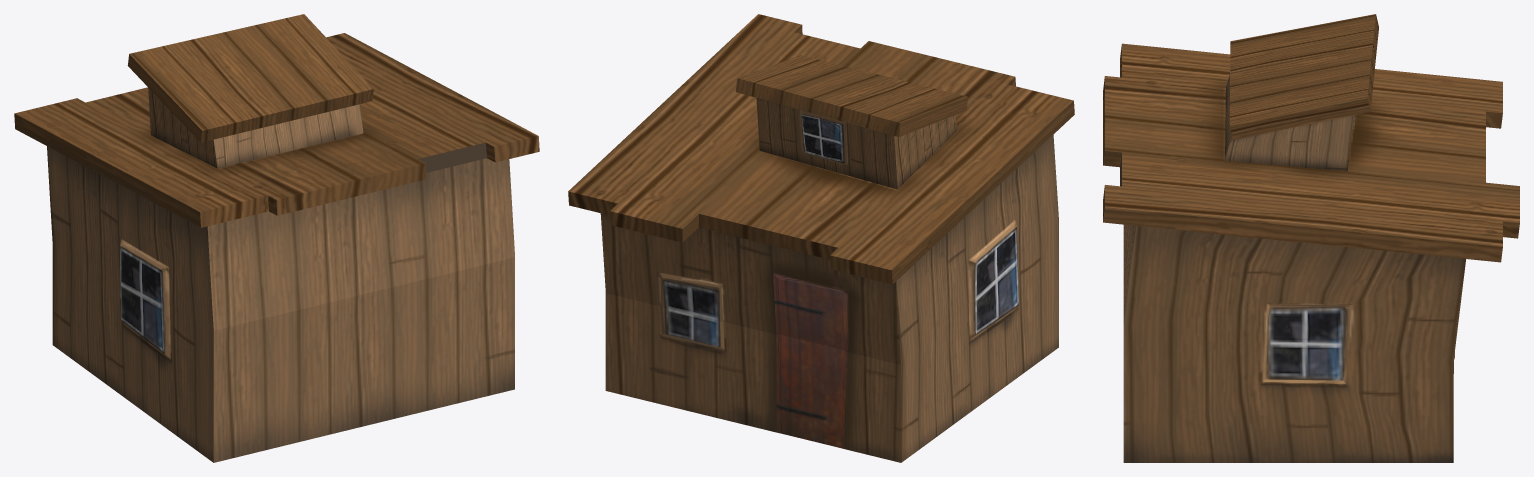
Rendered from shackMesh.FBX.
3 views of the same model, side by side, from view 1: azimuth 30°, elevation 25°; view 2: azimuth 150°, elevation 25°; view 3: azimuth 270°, elevation 25° (orthographic). The views are drawn at different scales.
Parts seen in each view (by area): view 1: shack; view 2: shack; view 3: shack.
Part boxes in pixels (left/top/right/bottom): shack: left=14, top=14, right=539, bottom=462; shack: left=568, top=14, right=1074, bottom=462; shack: left=1103, top=14, right=1519, bottom=462.
Bounding box in the file's own units: 1990 × 1789 × 2121.
